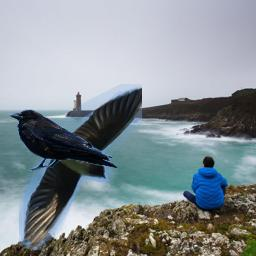Crow: (7, 109, 119, 171)
Swallow: (19, 84, 142, 250)
